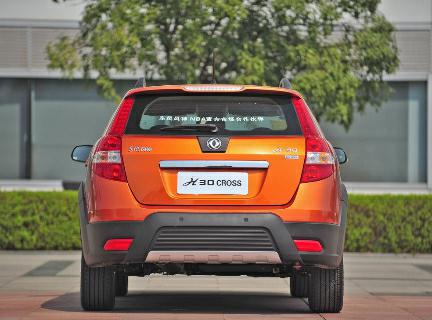东风风神-H30: (73, 80, 352, 320)
